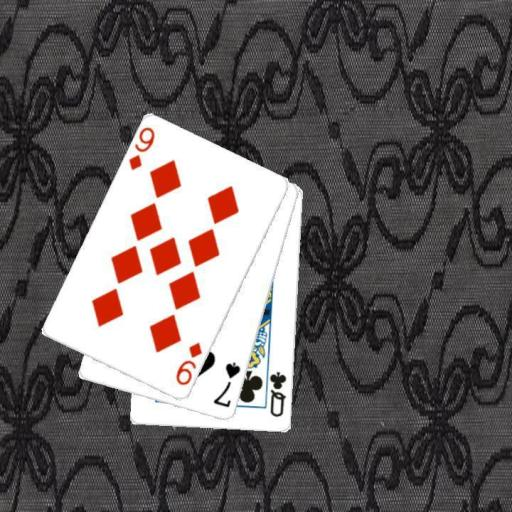card-corner: (210, 359, 242, 410), (172, 339, 204, 388), (125, 124, 157, 172), (266, 368, 288, 419)
